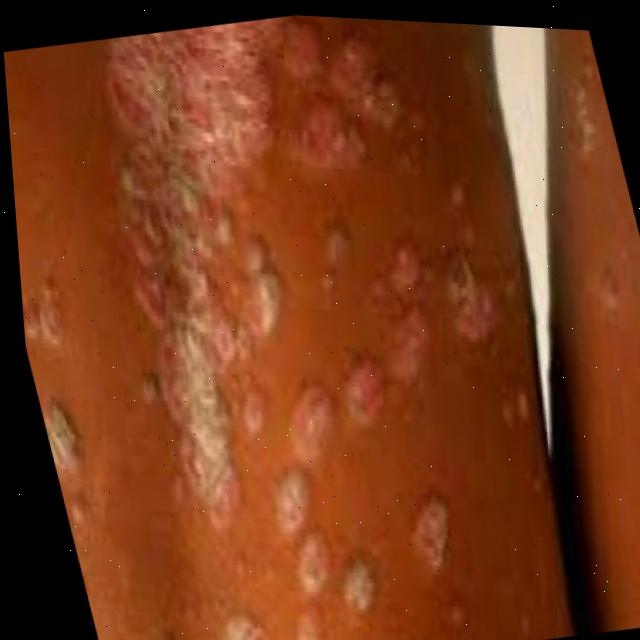Eczema: (4, 0, 570, 640)
